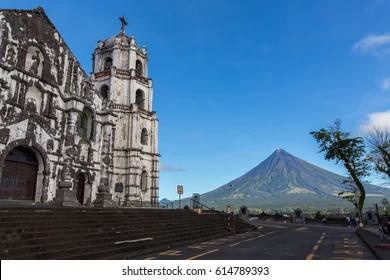daraga_church_daraga_albay: (1, 2, 161, 206)
